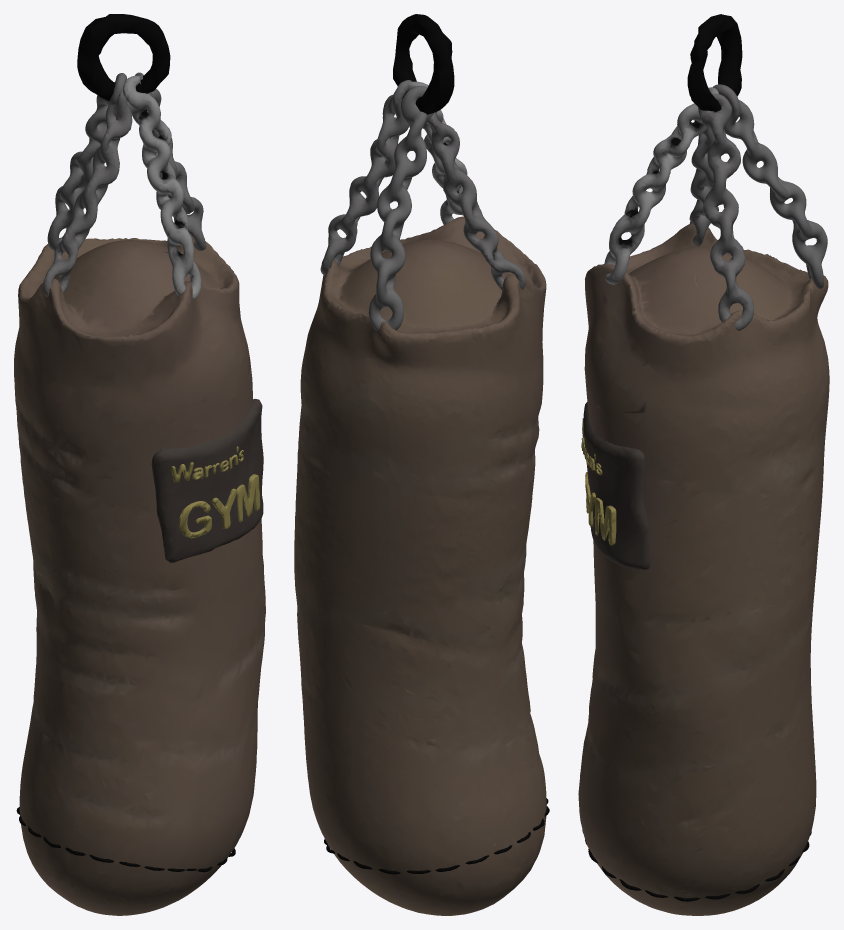
The model's file is boxingBag.glb.
3 renders of one model, left to right at view 1: azimuth 30°, elevation 25°; view 2: azimuth 150°, elevation 25°; view 3: azimuth 270°, elevation 25°, orthographic.
Visible parts, largest first — view 1: Object_4, Object_6, Object_2, Object_3, Object_5; view 2: Object_4, Object_2, Object_3, Object_6, Object_5; view 3: Object_4, Object_2, Object_6, Object_3, Object_5.
Boxes of the visible parts, left/top/right/bottom form: Object_4: left=14, top=234, right=265, bottom=915; Object_6: left=122, top=75, right=263, bottom=562; Object_2: left=47, top=14, right=206, bottom=250; Object_3: left=43, top=89, right=132, bottom=297; Object_5: left=16, top=807, right=235, bottom=872; Object_4: left=294, top=216, right=546, bottom=915; Object_2: left=320, top=14, right=454, bottom=330; Object_3: left=426, top=112, right=525, bottom=289; Object_6: left=407, top=81, right=467, bottom=224; Object_5: left=324, top=798, right=549, bottom=874; Object_4: left=578, top=223, right=829, bottom=915; Object_2: left=687, top=14, right=827, bottom=330; Object_6: left=581, top=87, right=718, bottom=570; Object_3: left=689, top=128, right=718, bottom=246; Object_5: left=582, top=829, right=811, bottom=901.
Size of the model in its own units: 0.5222 by 2.01 by 0.5115.
